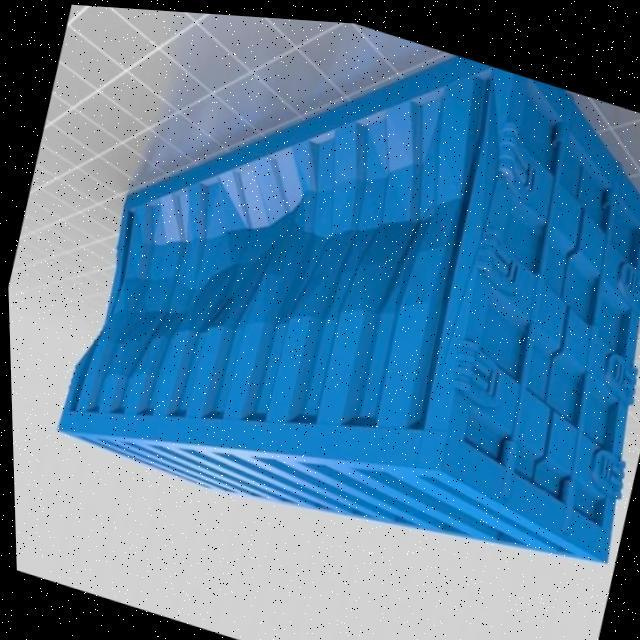dent: (58, 55, 500, 460)
